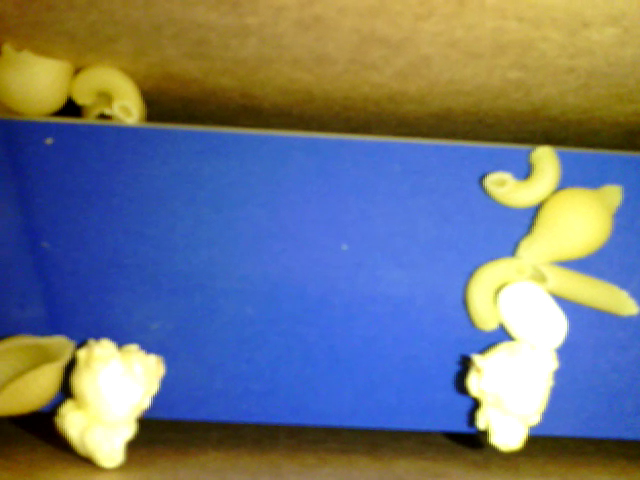elbow: (465, 256, 547, 330), (482, 146, 562, 209), (70, 64, 140, 125)
penne: (536, 263, 639, 316)
shell: (514, 185, 621, 263), (1, 334, 76, 417), (1, 43, 73, 115), (82, 92, 147, 122)
